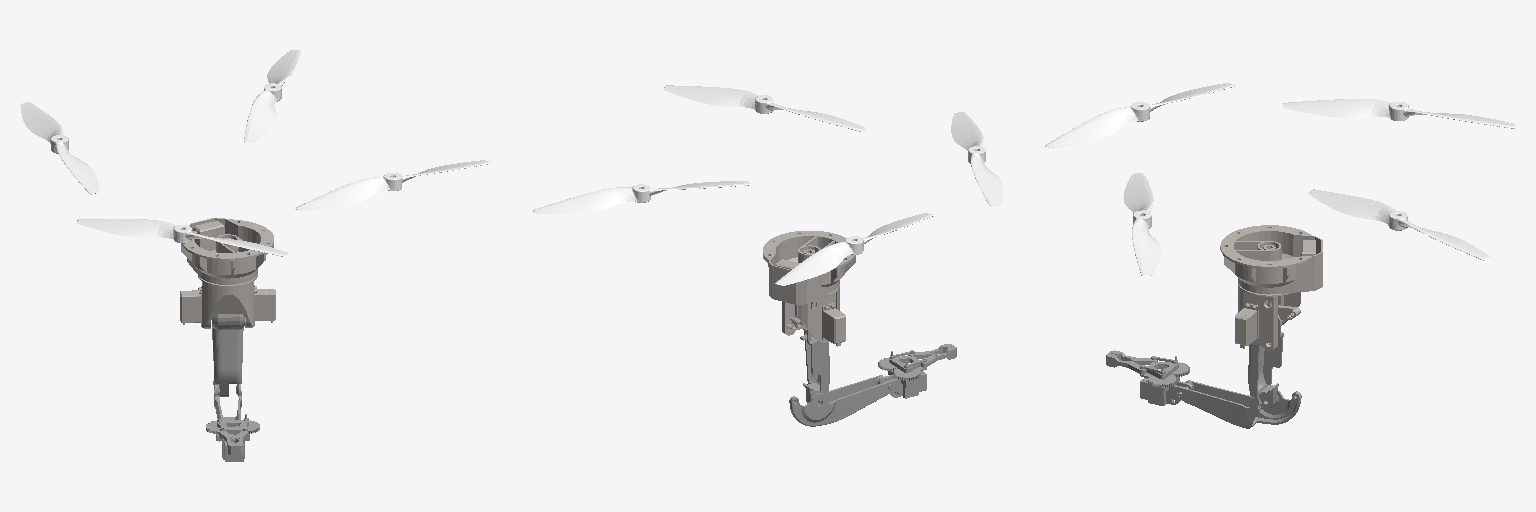
The robot description file, URDF, robot "flyarm":
<?xml version="1.0" encoding="utf-8"?>
<!-- ============================================================================
     flyarm  -  空中机械臂 (四旋翼 + 4 自由度机械臂 + 二指夹爪)
     由 SolidWorks 导出 (Stephen Brawner sw_urdf_exporter)。

     针对 IsaacLab / MuJoCo 仿真所做的修改:
       1. 修复卡死的旋翼: rr_rotor_joint 由 fixed / axis "0 0 0" 改为 continuous / "-1 0 0"
       2. 机械臂连杆/关节重命名为可读名称 (对照表见下)。
       3. 四个旋翼重命名: l22/l33/l44/l55 -> rr/fr/fl/rl_rotor (x前 y左 约定)
       4. 统一网格包路径: "package://arm/..." -> "package://flyarm/..."
       5. 机械臂自由度关节由 continuous 改为带角度限位的 revolute。
       6. D 轴 (腕) 限位收紧到 ±0.1 rad (近似固定腕)。

     机械臂命名对照 (旧 -> 新):
       l1 -> arm_base          (机械臂固定底座, fixed mount)
       l2 -> arm_base_rotate   (旋转底座)        joint: base_rotate_joint
       l3 -> link_bc           (BC 轴连杆)       joint: axis_B_joint
       l4 -> link_cd           (CD 轴连杆)       joint: axis_C_joint
       l5 -> gripper_base      (夹爪底座)        joint: axis_D_joint
       l6 -> gripper_right     (右夹爪)          joint: gripper_right_joint
       l7 -> gripper_left      (左夹爪)          joint: gripper_left_joint

     旋翼命名对照 (旧 -> 新, 按安装位置 x前/y左):
       l22 (-x,-y) -> rr_rotor  joint: rr_rotor_joint   (右后)
       l33 (+x,-y) -> fr_rotor  joint: fr_rotor_joint   (右前)
       l44 (+x,+y) -> fl_rotor  joint: fl_rotor_joint   (左前)
       l55 (-x,+y) -> rl_rotor  joint: rl_rotor_joint   (左后)

     说明: 仿真请用 flyarm_sim.urdf (相对 mesh 路径)。本文件用 package:// 供网页查看器。
     <limit> 数值是占位安全值, 训练前按真实舵机行程收紧。
     ============================================================================ -->
<robot
  name="flyarm">

  <!-- ======================= 机体 ======================= -->
  <link
    name="base_link">
    <inertial>
      <origin
        xyz="0.000351127786367396 -0.000257429115357956 -0.0335575170333576"
        rpy="0 0 0" />
      <!-- base_link 质量取真机机架实测值 2.0kg。惯量按质量比缩放 (假设质量分布不变, 上真机前用 CAD 精标)。 -->
      <mass
        value="2.0" />
      <inertia
        ixx="0.00278714"
        ixy="2.60343E-06"
        ixz="2.46949E-08"
        iyy="0.00136146"
        iyz="2.65360E-06"
        izz="0.00305334" />
    </inertial>
    <visual>
      <origin
        xyz="0 0 0"
        rpy="0 0 0" />
      <geometry>
        <mesh
          filename="../meshes/base_link.STL" />
      </geometry>
      <material
        name="">
        <color
          rgba="1 1 1 1" />
      </material>
    </visual>
    <!-- 保留 base_link 碰撞。脚架离地不靠去掉碰撞实现, 而是靠"直臂 (arm_straight) + 高悬停 (hover_offset)"
         → 无人机不下降 → 脚架不触地。保留物理脚架更接近真机并作为安全网。 -->
    <collision>
      <origin xyz="0 0 0" rpy="0 0 0" />
      <geometry><mesh filename="../meshes/base_link.STL" /></geometry>
    </collision>
  </link>

  <!-- ======================= 旋翼 (×4) =======================
       四个旋翼自由旋转 (continuous)。升力/反扭由飞控在仿真里施加, 关节轴只是可视化旋转轴。 -->
  <!-- 右后 rr_rotor (原 l22) -->
  <link
    name="rr_rotor">
    <inertial>
      <origin
        xyz="0.0473353347145848 0.000197095936702529 0.000174051578952034"
        rpy="0 0 0" />
      <mass
        value="0.0229282927851813" />
      <inertia
        ixx="9.09087806405936E-05"
        ixy="5.13488235782876E-10"
        ixz="-1.07369138950175E-09"
        iyy="5.57789393210295E-05"
        iyz="4.31406386140824E-05"
        izz="3.5909689375767E-05" />
    </inertial>
    <visual>
      <origin
        xyz="0 0 0"
        rpy="0 0 0" />
      <geometry>
        <mesh
          filename="../meshes/rr_rotor.STL" />
      </geometry>
      <material
        name="">
        <color
          rgba="1 1 1 1" />
      </material>
    </visual>
    <collision>
      <origin
        xyz="0 0 0"
        rpy="0 0 0" />
      <geometry>
        <mesh
          filename="../meshes/rr_rotor.STL" />
      </geometry>
    </collision>
  </link>
  <!-- 修正: 原来是 fixed / axis="0 0 0" (该旋翼转不了), 现改为 continuous -->
  <joint
    name="rr_rotor_joint"
    type="continuous">
    <origin
      xyz="-0.170163131133237 -0.170201542587365 0.0708"
      rpy="1.5707963267949 -1.5707963267949 0" />
    <parent
      link="base_link" />
    <child
      link="rr_rotor" />
    <axis
      xyz="-1 0 0" />
  </joint>

  <!-- 右前 fr_rotor (原 l33) -->
  <link
    name="fr_rotor">
    <inertial>
      <origin
        xyz="0.0473275810559199 -0.000467343845156593 -0.000751366737984482"
        rpy="0 0 0" />
      <mass
        value="0.0229273353251971" />
      <inertia
        ixx="9.08987166445279E-05"
        ixy="-9.4681308528274E-07"
        ixz="-3.211560706351E-08"
        iyy="1.64331076850008E-06"
        iyz="-2.2803035789249E-06"
        izz="9.00554487876853E-05" />
    </inertial>
    <visual>
      <origin
        xyz="0 0 0"
        rpy="0 0 0" />
      <geometry>
        <mesh
          filename="../meshes/fr_rotor.STL" />
      </geometry>
      <material
        name="">
        <color
          rgba="1 1 1 1" />
      </material>
    </visual>
    <collision>
      <origin
        xyz="0 0 0"
        rpy="0 0 0" />
      <geometry>
        <mesh
          filename="../meshes/fr_rotor.STL" />
      </geometry>
    </collision>
  </link>
  <joint
    name="fr_rotor_joint"
    type="continuous">
    <origin
      xyz="0.168176808521089 -0.168048450980534 0.0707991465916544"
      rpy="1.5707963267949 -1.5707963267949 0" />
    <parent
      link="base_link" />
    <child
      link="fr_rotor" />
    <axis
      xyz="-1 0 0" />
  </joint>

  <!-- 左前 fl_rotor (原 l44) -->
  <link
    name="fl_rotor">
    <inertial>
      <origin
        xyz="0.0473353117833849 0.000202037047005471 -0.000168240650222473"
        rpy="0 0 0" />
      <mass
        value="0.0229281784444268" />
      <inertia
        ixx="9.09077649282057E-05"
        ixy="-9.74921530361897E-10"
        ixz="-6.67623680368692E-10"
        iyy="4.93864891618474E-05"
        iyz="-4.41273182457583E-05"
        izz="4.23011092928309E-05" />
    </inertial>
    <visual>
      <origin
        xyz="0 0 0"
        rpy="0 0 0" />
      <geometry>
        <mesh
          filename="../meshes/fl_rotor.STL" />
      </geometry>
      <material
        name="">
        <color
          rgba="1 1 1 1" />
      </material>
    </visual>
    <collision>
      <origin
        xyz="0 0 0"
        rpy="0 0 0" />
      <geometry>
        <mesh
          filename="../meshes/fl_rotor.STL" />
      </geometry>
    </collision>
  </link>
  <joint
    name="fl_rotor_joint"
    type="continuous">
    <origin
      xyz="0.170164649982814 0.17012623852867 0.0708"
      rpy="1.5707963267949 -1.5707963267949 0" />
    <parent
      link="base_link" />
    <child
      link="fl_rotor" />
    <axis
      xyz="-1 0 0" />
  </joint>

  <!-- 左后 rl_rotor (原 l55) -->
  <link
    name="rl_rotor">
    <inertial>
      <origin
        xyz="0.0473351076739079 -0.000259129949975956 4.45263675536989E-05"
        rpy="0 0 0" />
      <mass
        value="0.0229274907678625" />
      <inertia
        ixx="9.09084868706134E-05"
        ixy="5.14458621610906E-10"
        ixz="1.07562148698373E-09"
        iyy="8.5845577951234E-05"
        iyz="-1.89654922420876E-05"
        izz="5.842688609076E-06" />
    </inertial>
    <visual>
      <origin
        xyz="0 0 0"
        rpy="0 0 0" />
      <geometry>
        <mesh
          filename="../meshes/rl_rotor.STL" />
      </geometry>
      <material
        name="">
        <color
          rgba="1 1 1 1" />
      </material>
    </visual>
    <collision>
      <origin
        xyz="0 0 0"
        rpy="0 0 0" />
      <geometry>
        <mesh
          filename="../meshes/rl_rotor.STL" />
      </geometry>
    </collision>
  </link>
  <joint
    name="rl_rotor_joint"
    type="continuous">
    <origin
      xyz="-0.170871594249042 0.170834701644432 0.0708"
      rpy="1.5707963267949 -1.5707963267949 0" />
    <parent
      link="base_link" />
    <child
      link="rl_rotor" />
    <axis
      xyz="-1 0 0" />
  </joint>

  <!-- ======================= 机械臂 =======================
       链: base_link -(arm_mount)-> arm_base -(base_rotate)-> arm_base_rotate
           -(axis_B)-> link_bc -(axis_C)-> link_cd -(axis_D)-> gripper_base
           -(gripper_right / gripper_left)-> 两指
       关节正方向沿 axis="-1 0 0" (绕局部 -X)。 -->

  <!-- l1 : 机械臂固定底座 (固连在无人机下方) -->
  <link
    name="arm_base">
    <inertial>
      <origin
        xyz="-0.0083485309775336 0.000154996776270776 0.0259797943306873"
        rpy="0 0 0" />
      <mass
        value="0.272894323468001" />
      <inertia
        ixx="0.000188019850509716"
        ixy="2.3204599431514E-07"
        ixz="1.45801251226452E-05"
        iyy="0.000210926622774998"
        iyz="-1.06345721979206E-07"
        izz="0.000310160657895025" />
    </inertial>
    <visual>
      <origin
        xyz="0 0 0"
        rpy="0 0 0" />
      <geometry>
        <mesh
          filename="../meshes/arm_base.STL" />
      </geometry>
      <material
        name="">
        <color
          rgba="0.776470588235294 0.756862745098039 0.737254901960784 1" />
      </material>
    </visual>
    <collision>
      <origin
        xyz="0 0 0"
        rpy="0 0 0" />
      <geometry>
        <mesh
          filename="../meshes/arm_base.STL" />
      </geometry>
    </collision>
  </link>
  <!-- j00 : 机械臂刚性固连到机体 -->
  <joint
    name="arm_mount_joint"
    type="fixed">
    <origin
      xyz="0 0 0"
      rpy="3.14 0 -1.57" />
    <parent
      link="base_link" />
    <child
      link="arm_base" />
    <axis
      xyz="0 0 0" />
  </joint>

  <!-- l2 : 旋转底座 -->
  <link
    name="arm_base_rotate">
    <inertial>
      <origin
        xyz="0.0359439762293015 -0.00713462357357059 -0.00308284931111787"
        rpy="0 0 0" />
      <mass
        value="0.191533351388813" />
      <inertia
        ixx="0.000107090640010156"
        ixy="9.5354041509615E-07"
        ixz="-4.44253031875453E-06"
        iyy="0.000134604517947024"
        iyz="9.66928729492876E-06"
        izz="0.000116154179587917" />
    </inertial>
    <visual>
      <origin
        xyz="0 0 0"
        rpy="0 0 0" />
      <geometry>
        <mesh
          filename="../meshes/arm_base_rotate.STL" />
      </geometry>
      <material
        name="">
        <color
          rgba="0.776470588235294 0.756862745098039 0.737254901960784 1" />
      </material>
    </visual>
    <collision>
      <origin
        xyz="0 0 0"
        rpy="0 0 0" />
      <geometry>
        <mesh
          filename="../meshes/arm_base_rotate.STL" />
      </geometry>
    </collision>
  </link>
  <!-- j2 : 底座旋转 (整臂偏航), 范围大 -->
  <joint
    name="base_rotate_joint"
    type="revolute">
    <origin
      xyz="0 0 0.0504999999999999"
      rpy="1.5707963267949 -1.5707963267949 0" />
    <parent
      link="arm_base" />
    <child
      link="arm_base_rotate" />
    <axis
      xyz="-1 0 0" />
    <limit
      lower="-3.14159"
      upper="3.14159"
      effort="10"
      velocity="6.28" />
    <dynamics
      damping="0.1"
      friction="0.0" />
  </joint>

  <!-- l3 : BC 轴连杆 -->
  <link
    name="link_bc">
    <inertial>
      <origin
        xyz="0.0165075601084717 0.0473372214162494 -0.00476164013502745"
        rpy="0 0 0" />
      <mass
        value="0.0565655004543067" />
      <inertia
        ixx="0.000103481838185612"
        ixy="5.35024877797434E-06"
        ixz="9.01545719378009E-07"
        iyy="1.5531248902396E-05"
        iyz="-4.46160971196172E-06"
        izz="0.000106991404292056" />
    </inertial>
    <visual>
      <origin
        xyz="0 0 0"
        rpy="0 0 0" />
      <geometry>
        <mesh
          filename="../meshes/link_bc.STL" />
      </geometry>
      <material
        name="">
        <color
          rgba="0.698039215686274 0.698039215686274 0.698039215686274 1" />
      </material>
    </visual>
    <collision>
      <origin
        xyz="0 0 0"
        rpy="0 0 0" />
      <geometry>
        <mesh
          filename="../meshes/link_bc.STL" />
      </geometry>
    </collision>
  </link>
  <!-- j3 : B 轴 -->
  <joint
    name="axis_B_joint"
    type="revolute">
    <origin
      xyz="0.055999999999994 0.000382836228957711 -0.0194205883228549"
      rpy="0 -1.09630311786825 -1.5707963267949" />
    <parent
      link="arm_base_rotate" />
    <child
      link="link_bc" />
    <axis
      xyz="-1 0 0" />
    <limit
      lower="-2.61799"
      upper="2.61799"
      effort="10"
      velocity="6.28" />
    <dynamics
      damping="0.1"
      friction="0.0" />
  </joint>

  <!-- l4 : CD 轴连杆 -->
  <link
    name="link_cd">
    <inertial>
      <origin
        xyz="-0.0154905535289683 0.0154928277803316 -0.0387592194782328"
        rpy="0 0 0" />
      <mass
        value="0.0370929114993028" />
      <inertia
        ixx="7.10283674427326E-05"
        ixy="-4.5211030823379E-07"
        ixz="6.62959517460371E-06"
        iyy="7.16905054596082E-05"
        iyz="1.24835133153328E-06"
        izz="1.19965985824017E-05" />
    </inertial>
    <visual>
      <origin
        xyz="0 0 0"
        rpy="0 0 0" />
      <geometry>
        <mesh
          filename="../meshes/link_cd.STL" />
      </geometry>
      <material
        name="">
        <color
          rgba="0.698039215686274 0.698039215686274 0.698039215686274 1" />
      </material>
    </visual>
    <collision>
      <origin
        xyz="0 0 0"
        rpy="0 0 0" />
      <geometry>
        <mesh
          filename="../meshes/link_cd.STL" />
      </geometry>
    </collision>
  </link>
  <!-- j4 : C 轴 -->
  <joint
    name="axis_C_joint"
    type="revolute">
    <origin
      xyz="0.0294500000000001 0.119941950317014 0.00373209782198392"
      rpy="0 0 0" />
    <parent
      link="link_bc" />
    <child
      link="link_cd" />
    <axis
      xyz="-1 0 0" />
    <limit
      lower="-2.61799"
      upper="2.61799"
      effort="10"
      velocity="6.28" />
    <dynamics
      damping="0.1"
      friction="0.0" />
  </joint>

  <!-- l5 : 夹爪底座 (腕) -->
  <link
    name="gripper_base">
    <inertial>
      <origin
        xyz="-0.0127955166339258 0.00164606748967253 -0.0358672320062111"
        rpy="0 0 0" />
      <mass
        value="0.0451108540987195" />
      <inertia
        ixx="7.57908726441243E-06"
        ixy="-2.4818388132777E-09"
        ixz="-2.07456260561648E-09"
        iyy="8.89833111624145E-06"
        iyz="-6.04340945150484E-09"
        izz="6.62883706822181E-06" />
    </inertial>
    <visual>
      <origin
        xyz="0 0 0"
        rpy="0 0 0" />
      <geometry>
        <mesh
          filename="../meshes/gripper_base.STL" />
      </geometry>
      <material
        name="">
        <color
          rgba="0.698039215686274 0.698039215686274 0.698039215686274 1" />
      </material>
    </visual>
    <collision>
      <origin
        xyz="0 0 0"
        rpy="0 0 0" />
      <geometry>
        <mesh
          filename="../meshes/gripper_base.STL" />
      </geometry>
    </collision>
  </link>
  <!-- j5 : D 轴 (腕) — 行程很小 ±0.1rad (±5.7°), 近似固定。按真实机构调整。 -->
  <joint
    name="axis_D_joint"
    type="revolute">
    <origin
      xyz="0.000800000000000052 0.00740154405860555 -0.119771520594624"
      rpy="0 0 0" />
    <parent
      link="link_cd" />
    <child
      link="gripper_base" />
    <axis
      xyz="-1 0 0" />
    <limit
      lower="-0.1"
      upper="0.1"
      effort="10"
      velocity="6.28" />
    <dynamics
      damping="0.1"
      friction="0.0" />
  </joint>

  <!-- l6 : 右夹爪 -->
  <link
    name="gripper_right">
    <inertial>
      <origin
        xyz="-0.00432176468119913 -0.0252742057141876 -0.0184063965063959"
        rpy="0 0 0" />
      <mass
        value="0.0109055720487606" />
      <inertia
        ixx="3.28665820700347E-06"
        ixy="-4.28740187441565E-09"
        ixz="-2.67223390999308E-09"
        iyy="1.31774168753248E-06"
        iyz="-1.09912619891086E-06"
        izz="2.07422125329032E-06" />
    </inertial>
    <visual>
      <origin
        xyz="0 0 0"
        rpy="0 0 0" />
      <geometry>
        <mesh
          filename="../meshes/gripper_right.STL" />
      </geometry>
      <material
        name="">
        <color
          rgba="0.698039215686274 0.698039215686274 0.698039215686274 1" />
      </material>
    </visual>
    <collision>
      <origin
        xyz="0 0 0"
        rpy="0 0 0" />
      <geometry>
        <mesh
          filename="../meshes/gripper_right.STL" />
      </geometry>
    </collision>
  </link>
  <!-- j6 : 右指开合 -->
  <joint
    name="gripper_right_joint"
    type="revolute">
    <origin
      xyz="0.00570000000000484 -0.0153749950368713 -0.0238970337472262"
      rpy="1.09630311786825 0 1.5707963267949" />
    <parent
      link="gripper_base" />
    <child
      link="gripper_right" />
    <!-- 采用 revolute 夹爪: 两指网格非镜像, 平移式 (prismatic) 平行夹爪对不齐;
         revolute 已验证能夹住 (contact_grasp 2.2)。平行夹爪留待 sim-to-real 阶段用镜像网格重做。 -->
    <axis
      xyz="-1 0 0" />
    <limit
      lower="-0.8"
      upper="0.8"
      effort="1"
      velocity="6.28" />
    <dynamics
      damping="0.05"
      friction="0.0" />
  </joint>

  <!-- l7 : 左夹爪 -->
  <!-- 镜像修复: 原 gripper_left.STL 与 gripper_right.STL 是两个不同形状 (面数/质量都不同), 并非镜像 → 两指合不拢、平行夹爪对不齐。
       改法: 左指改用右指网格 + scale="-1 1 1" (沿局部 X 镜像) + 关节 yaw 取反 → 左指成为右指的真镜像。惯量也同步改成右指惯量的镜像 (origin.x、ixy、ixz 取反)。 -->
  <link
    name="gripper_left">
    <inertial>
      <origin
        xyz="0.00432176468119913 -0.0252742057141876 -0.0184063965063959"
        rpy="0 0 0" />
      <mass
        value="0.0109055720487606" />
      <inertia
        ixx="3.28665820700347E-06"
        ixy="4.28740187441565E-09"
        ixz="2.67223390999308E-09"
        iyy="1.31774168753248E-06"
        iyz="-1.09912619891086E-06"
        izz="2.07422125329032E-06" />
    </inertial>
    <visual>
      <origin
        xyz="0 0 0"
        rpy="0 0 0" />
      <geometry>
        <!-- 镜像: 右指网格 + scale="-1 1 1" → 左指 = 右指的镜像 -->
        <mesh
          filename="../meshes/gripper_right.STL"
          scale="-1 1 1" />
      </geometry>
      <material
        name="">
        <color
          rgba="0.698039215686274 0.698039215686274 0.698039215686274 1" />
      </material>
    </visual>
    <collision>
      <origin
        xyz="0 0 0"
        rpy="0 0 0" />
      <geometry>
        <mesh
          filename="../meshes/gripper_right.STL"
          scale="-1 1 1" />
      </geometry>
    </collision>
  </link>
  <!-- j7 : 左指开合 -->
  <joint
    name="gripper_left_joint"
    type="revolute">
    <!-- 镜像: yaw 1.5707963 → -1.5707963 (配合上面 mesh scale="-1 1 1")。推导: Rot_左=diag(-1,1,1)·Rot_右·diag(-1,1,1)。axis 仍为 (-1 0 0) 不变 (在新坐标系下已指向正确镜像方向)。 -->
    <origin
      xyz="-0.0312999999999952 -0.0153749950368713 -0.0238970337472262"
      rpy="1.09630311786825 0 -1.5707963267949" />
    <parent
      link="gripper_base" />
    <child
      link="gripper_left" />
    <!-- 采用 revolute 夹爪: 同右指, 恢复原 axis/限位。 -->
    <axis
      xyz="-1 0 0" />
    <limit
      lower="-0.8"
      upper="0.8"
      effort="1"
      velocity="6.28" />
    <dynamics
      damping="0.05"
      friction="0.0" />
  </joint>

</robot>

--- What the picture shows (computed from the rendered views, not written in the file) ---
3 views of the same robot in one strip: view 1: azimuth 30°, elevation 25°; view 2: azimuth 150°, elevation 25°; view 3: azimuth 270°, elevation 25° (orthographic).
Model flyarm with 12 links and 11 joints (6 revolute, 4 continuous, 1 fixed), rooted at base_link, posed every joint at zero.
Links seen in each view (by area): view 1: arm_base, arm_base_rotate, rr_rotor, link_bc, fr_rotor, fl_rotor, rl_rotor, gripper_base; view 2: arm_base, link_cd, arm_base_rotate, fl_rotor, fr_rotor, rl_rotor, rr_rotor, link_bc, gripper_base, gripper_left; view 3: arm_base, link_cd, arm_base_rotate, rl_rotor, rr_rotor, fl_rotor, fr_rotor, link_bc, gripper_base, gripper_right.
Boxes of the visible links, x1,y1,x2,y2 form: arm_base: (181,218,273,284); arm_base_rotate: (180,274,275,328); rr_rotor: (77,219,288,256); link_bc: (212,314,244,396); fr_rotor: (295,160,490,211); fl_rotor: (244,50,300,142); rl_rotor: (20,102,98,194); gripper_base: (216,414,249,461); arm_base: (763,231,855,304); link_cd: (789,375,894,426); arm_base_rotate: (782,285,845,346); fl_rotor: (533,181,750,213); fr_rotor: (663,85,864,131); rl_rotor: (775,213,933,285); rr_rotor: (951,112,1003,206); link_bc: (795,313,829,403); gripper_base: (878,351,926,398); gripper_left: (893,346,956,380); arm_base: (1220,225,1322,294); link_cd: (1175,380,1301,428); arm_base_rotate: (1235,284,1300,350); rl_rotor: (1283,99,1514,128); rr_rotor: (1045,83,1235,148); fl_rotor: (1308,189,1489,260); fr_rotor: (1123,173,1161,275); link_bc: (1248,315,1283,408); gripper_base: (1140,356,1192,405); gripper_right: (1106,353,1177,387).
Size in the robot's own frame: 0.6005 by 0.6209 by 0.3909 metres.
11 mesh visuals loaded from 11 distinct referenced files (10 binary STL); not drawn: 1 (reference not matched to a file when rendering).
